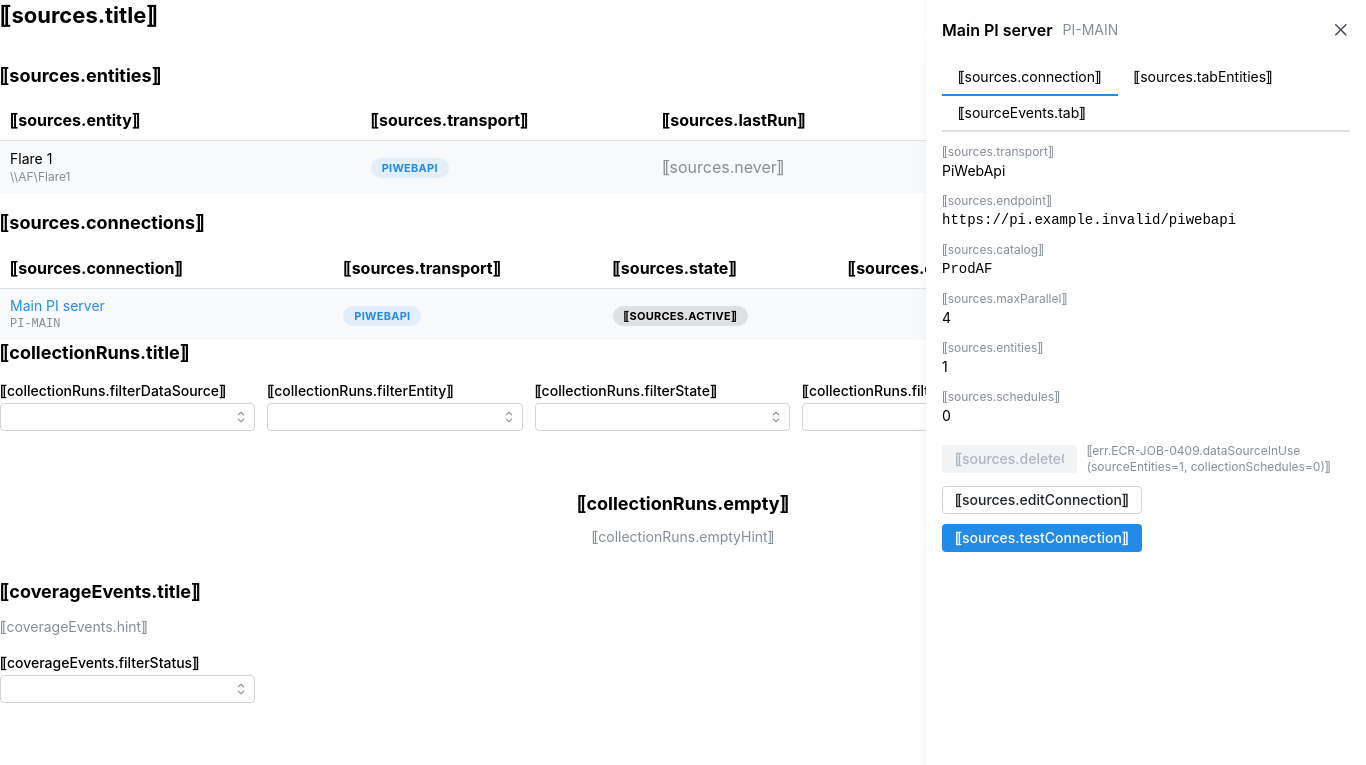
Scenario: SourcesPage під симуляцією (L9-18) › поза симуляцією — керування на місці (контроль)
Click the tab "⟦sources.tabEntities⟧": [1203, 78] box [1118,60,1289,96]
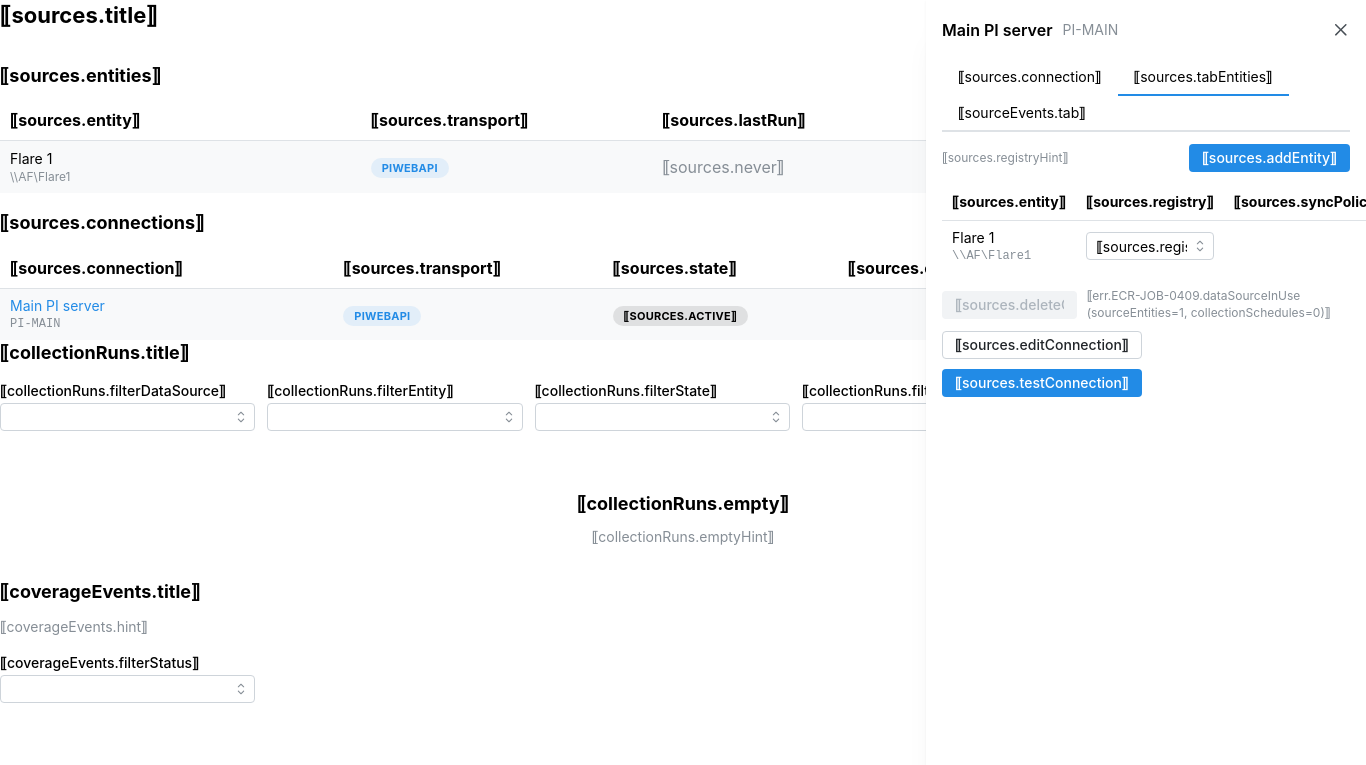
expect the row "Flare 1 \\\\AF\\Flare1" is shown: met, box [942,220,1365,272]
expect the button "⟦sources.addEntity⟧" is shown: met, box [1189,144,1350,172]
expect the field named "⟦sources.registry⟧" is enabled: met, box [1086,232,1214,260]
